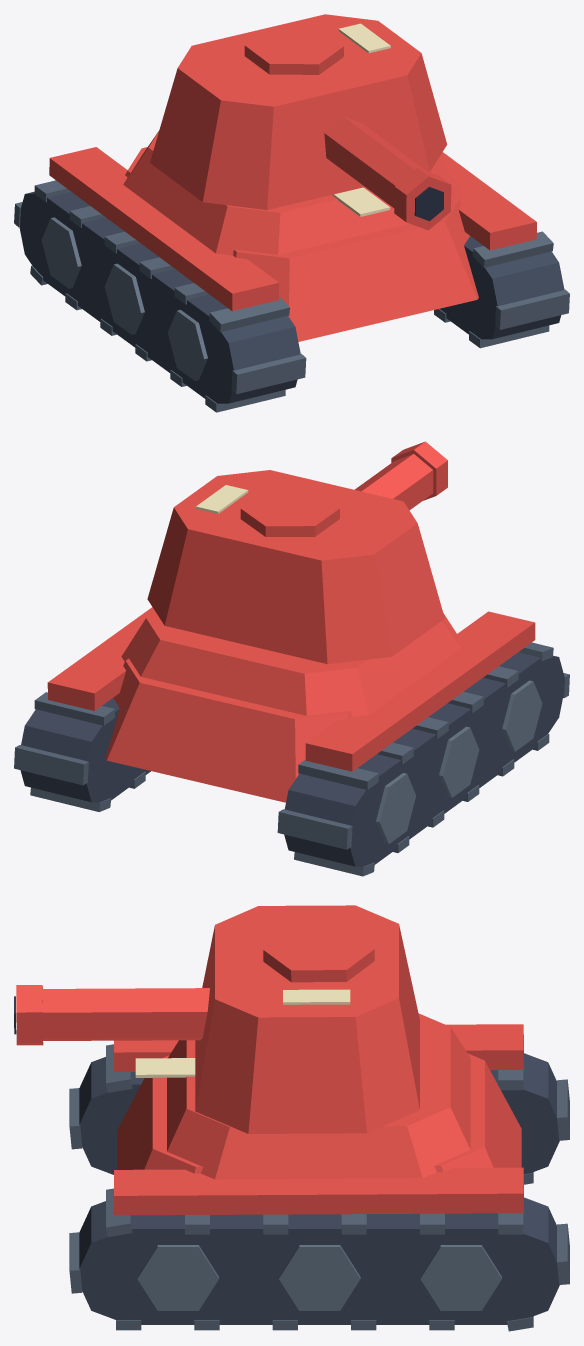
Rendered from tank_03_vermilion_heavy.glb.
3 renders of one model, top to bottom at view 1: azimuth 30°, elevation 25°; view 2: azimuth 150°, elevation 25°; view 3: azimuth 270°, elevation 25°, orthographic. The views are drawn at different scales.
Parts seen in each view (by area): view 1: 03 | Armored turret.001, 03 | Lower hull.001, 03 | Track belt.001, 03 | Upper deck.001, 03 | Track guard.001, 03 | Track belt.002, 03 | Cannon tube.001, 03 | Track guard.002, 03 | Commander hatch.001, 03 | Muzzle rim.001, 03 | Road wheel.003, 03 | Road wheel.001 (+10 smaller); view 2: 03 | Armored turret.001, 03 | Lower hull.001, 03 | Track belt.001, 03 | Upper deck.001, 03 | Track guard.001, 03 | Track belt.002, 03 | Track guard.002, 03 | Commander hatch.001, 03 | Cannon tube.001, 03 | Road wheel.001, 03 | Road wheel.003, 03 | Road wheel.002 (+8 smaller); view 3: 03 | Armored turret.001, 03 | Track belt.002, 03 | Upper deck.001, 03 | Track guard.002, 03 | Lower hull.001, 03 | Cannon tube.001, 03 | Track belt.001, 03 | Commander hatch.001, 03 | Road wheel.004, 03 | Road wheel.006, 03 | Road wheel.005, 03 | Track guard.001 (+14 smaller).
Part boxes in pixels (x1,y1,x2,y2): 03 | Armored turret.001: (150, 14, 447, 209); 03 | Lower hull.001: (125, 147, 478, 341); 03 | Track belt.001: (19, 191, 300, 403); 03 | Upper deck.001: (123, 130, 463, 255); 03 | Track guard.001: (49, 147, 279, 311); 03 | Track belt.002: (440, 236, 564, 339); 03 | Cannon tube.001: (324, 116, 425, 207); 03 | Track guard.002: (439, 152, 536, 250); 03 | Commander hatch.001: (244, 27, 343, 74); 03 | Muzzle rim.001: (394, 167, 451, 230); 03 | Road wheel.003: (41, 217, 81, 288); 03 | Road wheel.001: (167, 309, 207, 380); 03 | Armored turret.001: (147, 470, 444, 664); 03 | Lower hull.001: (105, 613, 459, 802); 03 | Track belt.001: (284, 652, 564, 866); 03 | Upper deck.001: (121, 611, 461, 716); 03 | Track guard.001: (305, 611, 535, 771); 03 | Track belt.002: (20, 698, 150, 802); 03 | Track guard.002: (47, 607, 154, 710); 03 | Commander hatch.001: (240, 490, 339, 536); 03 | Cannon tube.001: (354, 453, 433, 510); 03 | Road wheel.001: (502, 680, 542, 751); 03 | Road wheel.003: (376, 773, 416, 844); 03 | Road wheel.002: (439, 726, 479, 797); 03 | Armored turret.001: (195, 905, 419, 1133); 03 | Track belt.002: (79, 1197, 559, 1324); 03 | Upper deck.001: (167, 1013, 470, 1179); 03 | Track guard.002: (114, 1167, 523, 1215); 03 | Lower hull.001: (117, 1053, 521, 1173); 03 | Cannon tube.001: (42, 988, 209, 1040); 03 | Track belt.001: (79, 1053, 559, 1174); 03 | Commander hatch.001: (263, 928, 374, 982); 03 | Road wheel.004: (137, 1245, 218, 1310); 03 | Road wheel.006: (420, 1245, 501, 1310); 03 | Road wheel.005: (279, 1245, 360, 1310); 03 | Track guard.001: (114, 1024, 523, 1071).
Bounding box in the file's own units: 1.82 × 1.34 × 2.31.
